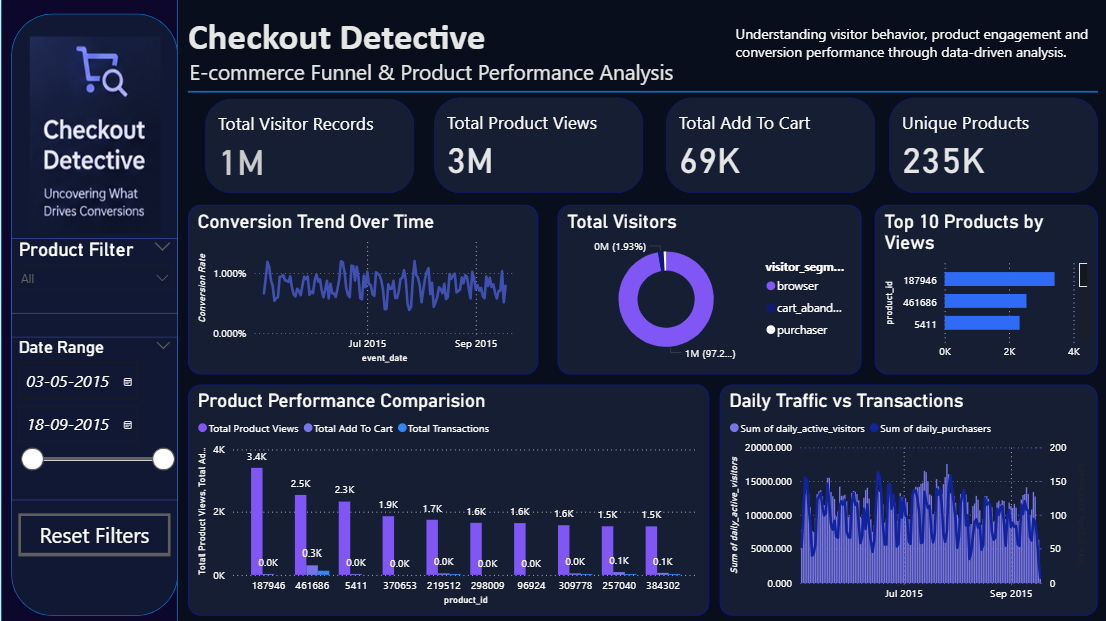

The dashboard page shown, as its layout file describes it:
{"tool":"powerbi","page":{"name":"Page 1","canvas":[1280,720],"ordinal":0},"visuals":[{"type":"shape","box":[0,0,203.3,720],"z":0},{"type":"shape","box":[215,100,1046.7,13.3],"z":1000},{"type":"textbox","box":[216,66,580,40],"z":2000},{"type":"textbox","box":[214.4,17.1,358.8,68.3],"z":3000},{"type":"shape","box":[12,16,192,692],"z":4000},{"type":"cardVisual","fields":{"Data":["Dim_Date.Total Visitor Records"]},"box":[235,115,240,108.3],"z":5000},{"type":"cardVisual","fields":{"Data":["Dim_Date.Total Product Views"]},"box":[498.3,113.3,240,110],"z":6000},{"type":"cardVisual","fields":{"Data":["Dim_Date.Total Add To Cart"]},"box":[765,113.3,240,110],"z":7000},{"type":"cardVisual","fields":{"Data":["Dim_Date.Unique Products"]},"box":[1021.7,113.3,240,110],"z":8000},{"type":"lineChart","title":"Conversion Trend Over Time","fields":{"Y":["Dim_Date.Conversion Rate"],"Category":["daily_conversion_metrics.event_date"]},"box":[215,236.7,403.3,195],"z":9000},{"type":"donutChart","title":"Total Visitors","fields":{"Category":["visitor_behaviour.visitor_segment"],"Y":["Dim_Date.Total Visitor Records"]},"box":[640,236.7,350,195],"z":10000},{"type":"clusteredBarChart","title":"Top 10 Products by Views","fields":{"Category":["product_performance.product_id"],"Y":["Dim_Date.Total Product Views"]},"box":[1005,236.7,256.7,195],"z":11000},{"type":"clusteredColumnChart","title":"Product Performance Comparision","fields":{"Category":["product_performance.product_id"],"Y":["Dim_Date.Total Product Views","Dim_Date.Total Add To Cart","Dim_Date.Total Transactions"]},"box":[215,443.3,600,265],"z":12000},{"type":"lineClusteredColumnComboChart","title":"Daily Traffic vs Transactions","fields":{"Category":["daily_conversion_metrics.event_date"],"Y":["Sum(daily_conversion_metrics.daily_active_visitors)"],"Y2":["Sum(daily_conversion_metrics.daily_purchasers)"]},"box":[826.7,443.3,435,265],"z":13000},{"type":"slicer","fields":{"Values":["product_performance.product_id"]},"box":[11.7,275,191.7,86.7],"z":14000},{"type":"actionButton","box":[20,591.7,175,48.3],"z":15000},{"type":"slicer","fields":{"Values":["Dim_Date.Date"]},"box":[11.7,388.3,191.7,188.3],"z":16000},{"type":"textbox","box":[845,28.3,416.7,56.7],"z":17000},{"type":"image","box":[28.3,38.3,160,236.7],"z":18000}]}

Visuals, with their boxes in screenshot pixels (x1, y1, x2, y2), scaled from the page's 1280x720 canvas onto the 1106x621 screenshot:
shape: {"left": 0, "top": 0, "right": 176, "bottom": 620}
shape: {"left": 186, "top": 86, "right": 1090, "bottom": 98}
textbox: {"left": 187, "top": 57, "right": 688, "bottom": 91}
textbox: {"left": 185, "top": 15, "right": 495, "bottom": 74}
shape: {"left": 10, "top": 14, "right": 176, "bottom": 611}
cardVisual - Dim_Date.Total Visitor Records: {"left": 203, "top": 99, "right": 410, "bottom": 193}
cardVisual - Dim_Date.Total Product Views: {"left": 431, "top": 98, "right": 638, "bottom": 193}
cardVisual - Dim_Date.Total Add To Cart: {"left": 661, "top": 98, "right": 868, "bottom": 193}
cardVisual - Dim_Date.Unique Products: {"left": 883, "top": 98, "right": 1090, "bottom": 193}
"Conversion Trend Over Time" lineChart: {"left": 186, "top": 204, "right": 534, "bottom": 372}
"Total Visitors" donutChart: {"left": 553, "top": 204, "right": 855, "bottom": 372}
"Top 10 Products by Views" clusteredBarChart: {"left": 868, "top": 204, "right": 1090, "bottom": 372}
"Product Performance Comparision" clusteredColumnChart: {"left": 186, "top": 382, "right": 704, "bottom": 611}
"Daily Traffic vs Transactions" lineClusteredColumnComboChart: {"left": 714, "top": 382, "right": 1090, "bottom": 611}
slicer - product_performance.product_id: {"left": 10, "top": 237, "right": 176, "bottom": 312}
actionButton: {"left": 17, "top": 510, "right": 168, "bottom": 552}
slicer - Dim_Date.Date: {"left": 10, "top": 335, "right": 176, "bottom": 497}
textbox: {"left": 730, "top": 24, "right": 1090, "bottom": 73}
image: {"left": 24, "top": 33, "right": 163, "bottom": 237}
